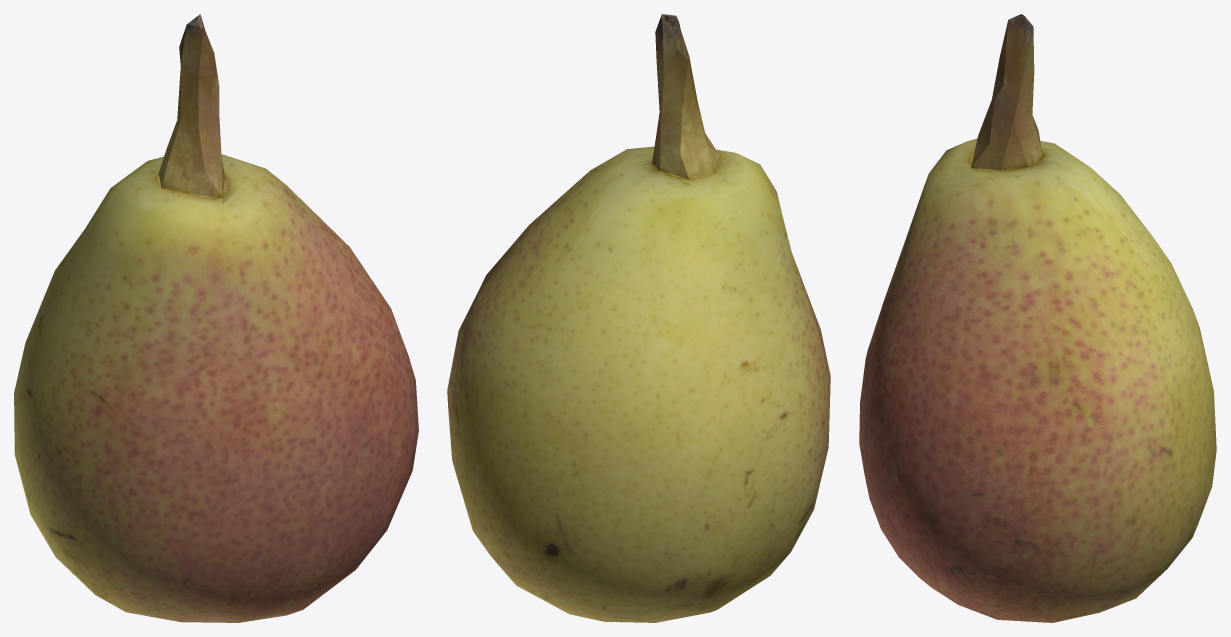
The model's file is 3DPear001_LQ-2K-JPG.obj.
3 renders of one model, left to right at view 1: azimuth 30°, elevation 25°; view 2: azimuth 150°, elevation 25°; view 3: azimuth 270°, elevation 25°, orthographic. The views are drawn at different scales.
Parts seen in each view (by area): view 1: 3DPear001_LQ-2K-JPG; view 2: 3DPear001_LQ-2K-JPG; view 3: 3DPear001_LQ-2K-JPG.
Boxes of the visible parts, x1,y1,x2,y2 form: 3DPear001_LQ-2K-JPG: (14, 14, 418, 622); 3DPear001_LQ-2K-JPG: (447, 14, 830, 622); 3DPear001_LQ-2K-JPG: (859, 14, 1216, 622).
Size of the model in its own units: 0.0549 by 0.0891 by 0.0507.
1 material, 1 textured.
